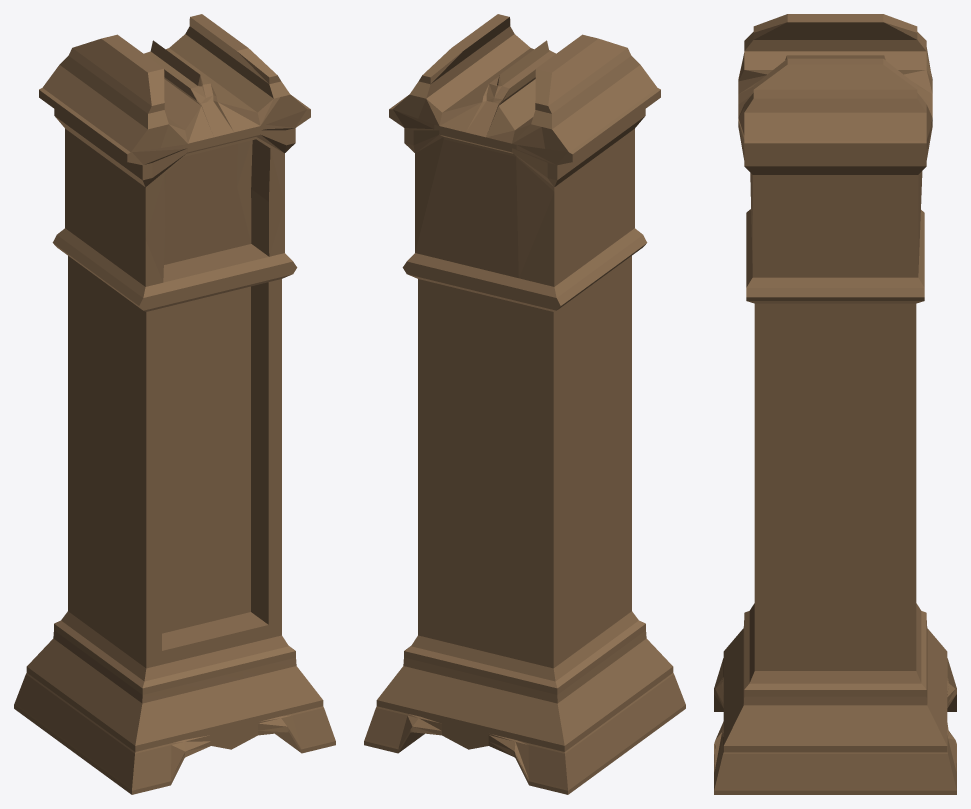
Rendered from PAST-GrandfatherClock.fbx.
3 renders of one model, left to right at view 1: azimuth 30°, elevation 25°; view 2: azimuth 150°, elevation 25°; view 3: azimuth 270°, elevation 25°, orthographic. The views are drawn at different scales.
Visible parts, largest first — view 1: GrandfatherClock; view 2: GrandfatherClock; view 3: GrandfatherClock.
Boxes of the visible parts, bbox=[...] form: GrandfatherClock: bbox=[14, 14, 335, 794]; GrandfatherClock: bbox=[364, 14, 685, 794]; GrandfatherClock: bbox=[714, 14, 956, 794].
Bounding box in the file's own units: 189 × 606 × 189.
